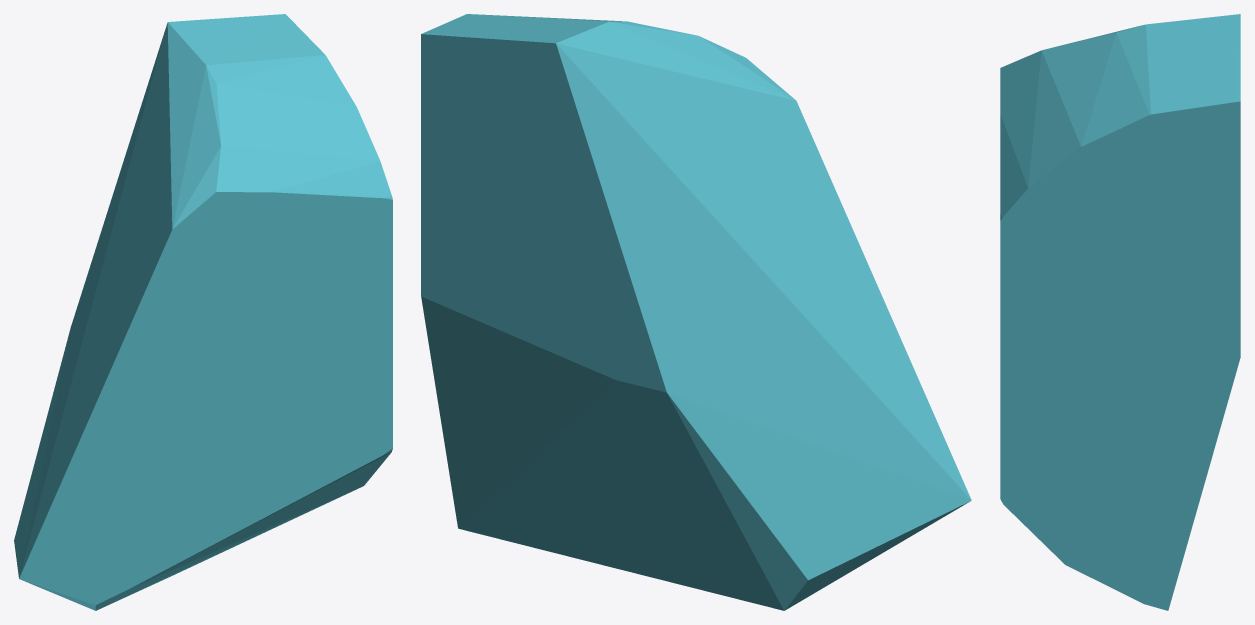
The picture shows the model from 3 angles, left to right: view 1: azimuth 30°, elevation 25°; view 2: azimuth 150°, elevation 25°; view 3: azimuth 270°, elevation 25°; orthographic projection. The views are drawn at different scales.
Bounding box in the file's own units: 0.0137 × 0.0169 × 0.00683.
